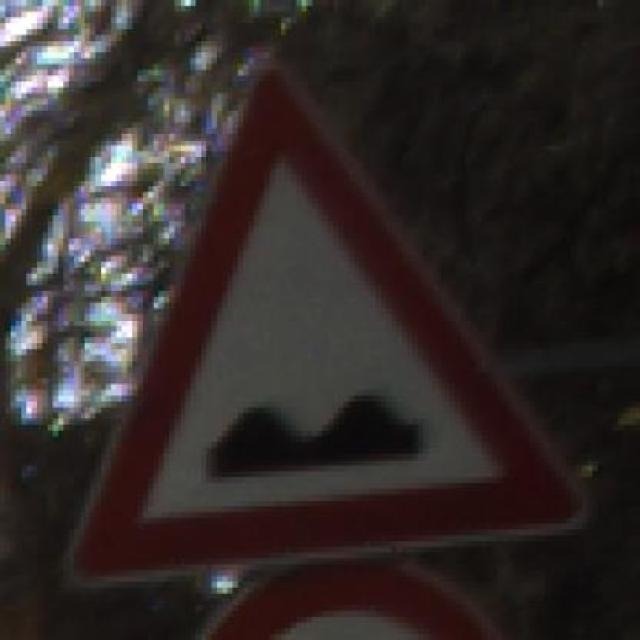Uneven Road: (69, 64, 576, 559)
